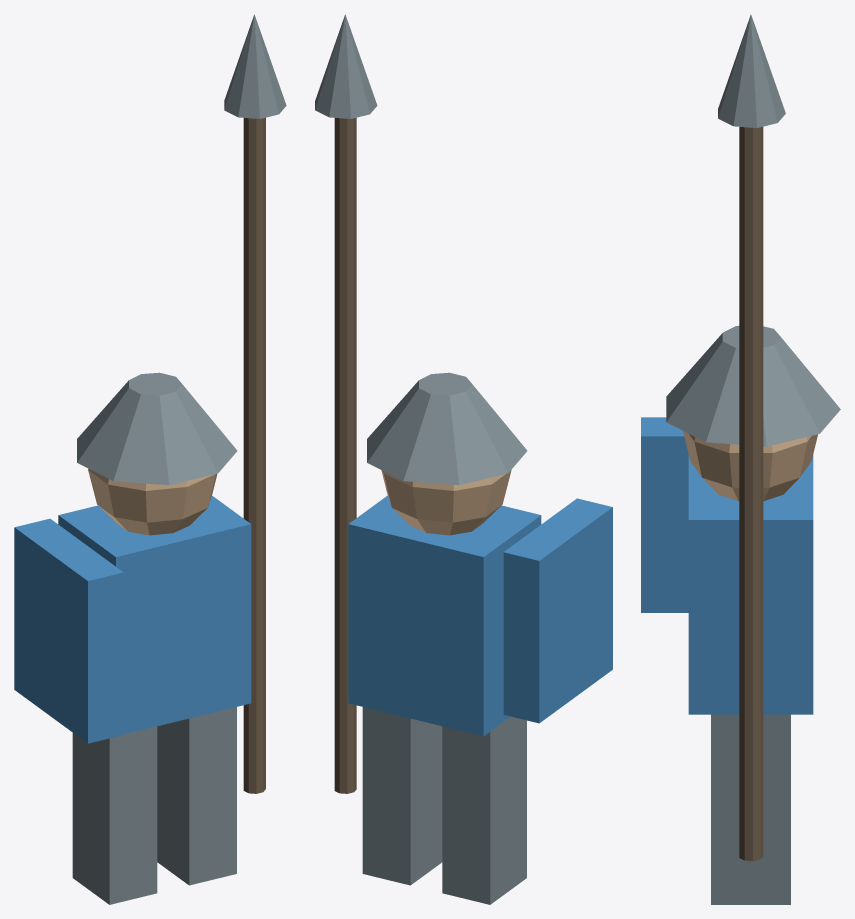
Rendered from ally_infantry.glb.
The picture shows the model from 3 angles, left to right: view 1: azimuth 30°, elevation 25°; view 2: azimuth 150°, elevation 25°; view 3: azimuth 270°, elevation 25°; orthographic projection. The views are drawn at different scales.
Visible parts, largest first — view 1: Tunic, Shield, Spear, Boot, Boot.001, Helmet, Head, Spear point; view 2: Tunic, Shield, Boot, Spear, Boot.001, Helmet, Head, Spear point; view 3: Tunic, Spear, Boot.001, Helmet, Shield, Head, Spear point.
Boxes of the visible parts, left/top/right/bottom form: Tunic: left=58, top=495, right=251, bottom=734; Shield: left=14, top=518, right=123, bottom=743; Spear: left=243, top=117, right=265, bottom=793; Boot: left=72, top=726, right=157, bottom=904; Boot.001: left=157, top=707, right=236, bottom=885; Helmet: left=77, top=372, right=237, bottom=485; Head: left=88, top=468, right=217, bottom=535; Spear point: left=224, top=14, right=286, bottom=118; Tunic: left=348, top=495, right=541, bottom=736; Shield: left=503, top=498, right=612, bottom=723; Boot: left=442, top=716, right=526, bottom=904; Spear: left=334, top=117, right=356, bottom=793; Boot.001: left=362, top=707, right=442, bottom=885; Helmet: left=367, top=372, right=527, bottom=485; Head: left=381, top=470, right=511, bottom=535; Spear point: left=315, top=14, right=377, bottom=118; Tunic: left=688, top=455, right=813, bottom=714; Spear: left=739, top=126, right=763, bottom=861; Boot.001: left=711, top=714, right=790, bottom=904; Helmet: left=666, top=326, right=840, bottom=446; Shield: left=641, top=417, right=688, bottom=612; Head: left=683, top=431, right=817, bottom=501; Spear point: left=718, top=14, right=785, bottom=127.
Bounding box in the file's own units: 0.6139 × 2.01 × 0.4.
